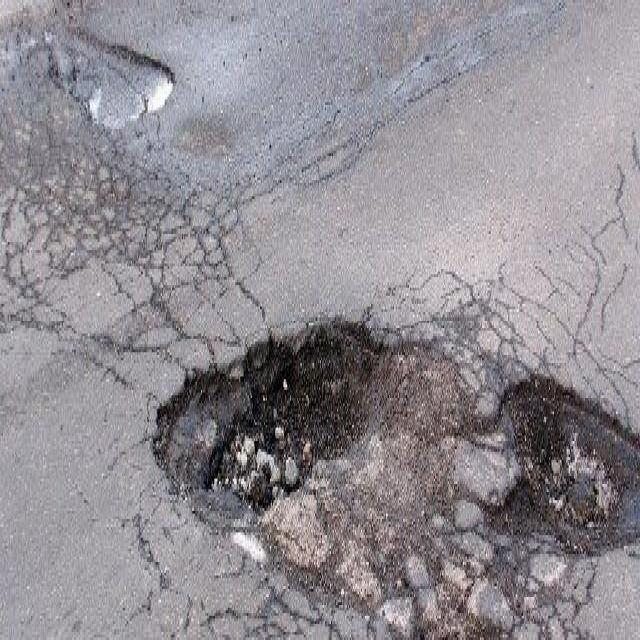jalan retak: (2, 100, 271, 394), (416, 135, 640, 411), (258, 50, 530, 220), (180, 548, 611, 640)
lubang: (141, 304, 469, 600), (489, 360, 639, 562), (1, 0, 178, 140)
